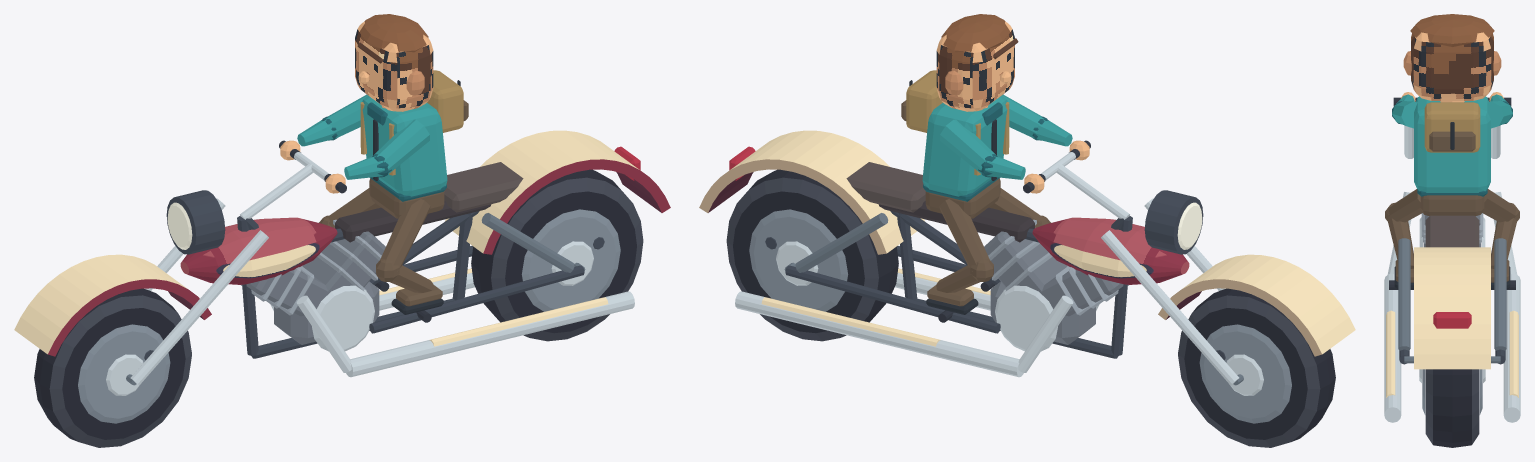
3 renders of one model, left to right at view 1: azimuth 30°, elevation 25°; view 2: azimuth 150°, elevation 25°; view 3: azimuth 270°, elevation 25°, orthographic. The views are drawn at different scales.
Visible parts, largest first — view 1: Body_static, RiderExplorer:Explorer_static_seated, Wheel_F_tire_hub, Wheel_R_tire_hub; view 2: Body_static, RiderExplorer:Explorer_static_seated, Wheel_F_tire_hub, Wheel_R_tire_hub; view 3: Body_static, RiderExplorer:Explorer_static_seated, Wheel_R_tire_hub.
Part boxes in pixels (x1,y1,x2,y2): Body_static: (14, 130, 670, 385); RiderExplorer:Explorer_static_seated: (280, 14, 468, 314); Wheel_F_tire_hub: (34, 288, 191, 447); Wheel_R_tire_hub: (471, 169, 643, 341); Body_static: (699, 130, 1355, 385); RiderExplorer:Explorer_static_seated: (901, 14, 1089, 314); Wheel_F_tire_hub: (1178, 288, 1335, 447); Wheel_R_tire_hub: (726, 169, 898, 341); Body_static: (1384, 97, 1520, 422); RiderExplorer:Explorer_static_seated: (1385, 14, 1519, 289); Wheel_R_tire_hub: (1419, 369, 1485, 447).
Size of the model in its own units: 63.14 by 34.17 by 12.35.
2 materials, 2 textured.
